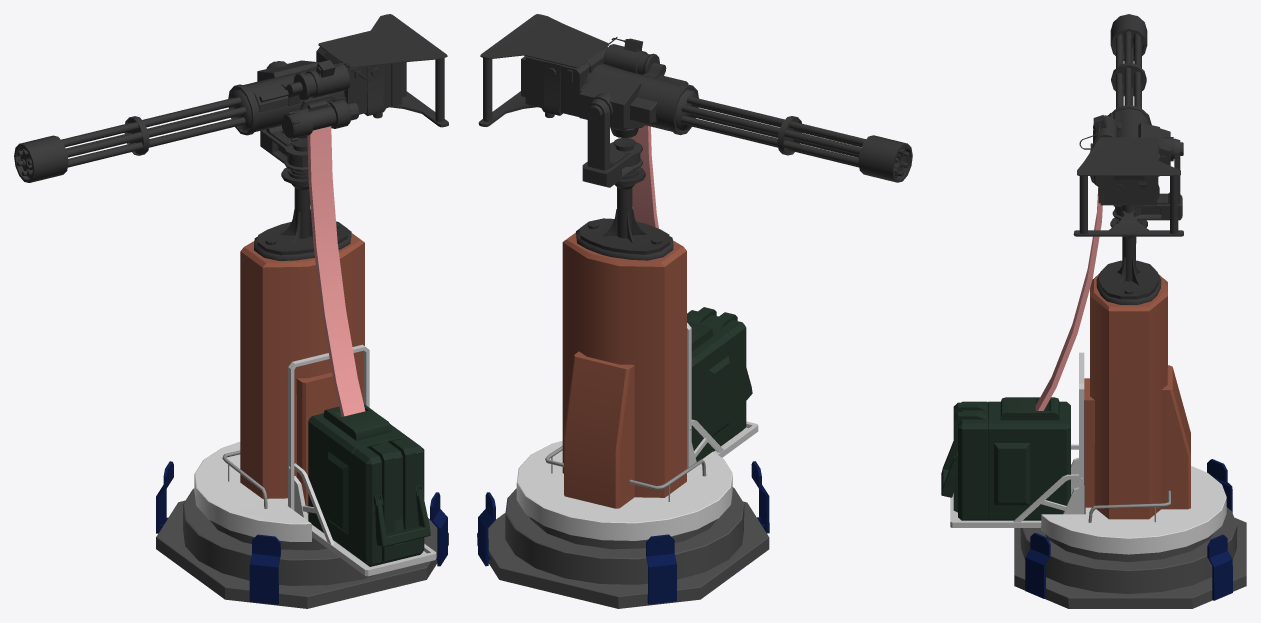
The model's file is minigun_02_low.FBX.
3 views of the same model, side by side, from view 1: azimuth 30°, elevation 25°; view 2: azimuth 150°, elevation 25°; view 3: azimuth 270°, elevation 25° (orthographic). The views are drawn at different scales.
Parts seen in each view (by area): view 1: socle_pied_low, box_munition_low, socle_low, balles_low, poignee_metal_low, socle_02_low, poignee_metal_02_low, plaque_pieds_low, repose_mun_low, tuyau_02_low, pied_03_low, recharge_low (+9 smaller); view 2: socle_pied_low, socle_low, socle_02_low, box_munition_low, poignee_metal_low, tuyau_02_low, poignee_metal_02_low, plaque_pieds_low, pied_rota_low, pied_rota_02_low, pied_03_low, balles_low (+7 smaller); view 3: socle_pied_low, box_munition_low, socle_low, socle_02_low, poignee_metal_low, plaque_pieds_low, poignee_metal_02_low, tuyau_02_low, pied_03_low, repose_mun_low, balles_low, pied_rota_low (+10 smaller).
Part boxes in pixels (bbox=[...]): socle_pied_low: bbox=[240, 233, 364, 513]; box_munition_low: bbox=[308, 404, 424, 566]; socle_low: bbox=[156, 488, 448, 608]; balles_low: bbox=[307, 126, 365, 416]; poignee_metal_low: bbox=[14, 58, 448, 182]; socle_02_low: bbox=[194, 442, 311, 541]; poignee_metal_02_low: bbox=[318, 14, 447, 67]; plaque_pieds_low: bbox=[156, 461, 447, 604]; repose_mun_low: bbox=[288, 344, 436, 576]; tuyau_02_low: bbox=[243, 47, 406, 131]; pied_03_low: bbox=[254, 221, 351, 260]; recharge_low: bbox=[281, 100, 359, 141]; socle_pied_low: bbox=[562, 232, 686, 508]; socle_low: bbox=[477, 487, 769, 608]; socle_02_low: bbox=[516, 441, 732, 540]; box_munition_low: bbox=[687, 307, 746, 461]; poignee_metal_low: bbox=[478, 38, 912, 182]; tuyau_02_low: bbox=[521, 46, 682, 131]; poignee_metal_02_low: bbox=[480, 14, 608, 73]; plaque_pieds_low: bbox=[478, 461, 769, 604]; pied_rota_low: bbox=[582, 99, 642, 187]; pied_rota_02_low: bbox=[579, 72, 657, 128]; pied_03_low: bbox=[576, 218, 673, 260]; balles_low: bbox=[628, 125, 658, 228]; socle_pied_low: bbox=[1084, 273, 1190, 519]; box_munition_low: bbox=[953, 397, 1070, 520]; socle_low: bbox=[1014, 507, 1246, 608]; socle_02_low: bbox=[1041, 464, 1226, 554]; poignee_metal_low: bbox=[1073, 14, 1183, 236]; plaque_pieds_low: bbox=[1025, 459, 1232, 600]; poignee_metal_02_low: bbox=[1077, 137, 1180, 175]; tuyau_02_low: bbox=[1100, 108, 1157, 206]; pied_03_low: bbox=[1096, 260, 1161, 304]; repose_mun_low: bbox=[950, 352, 1084, 527]; balles_low: bbox=[1035, 188, 1102, 410]; pied_rota_low: bbox=[1112, 138, 1183, 220].
Bounding box in the file's own units: 106 × 127 × 78.96.
